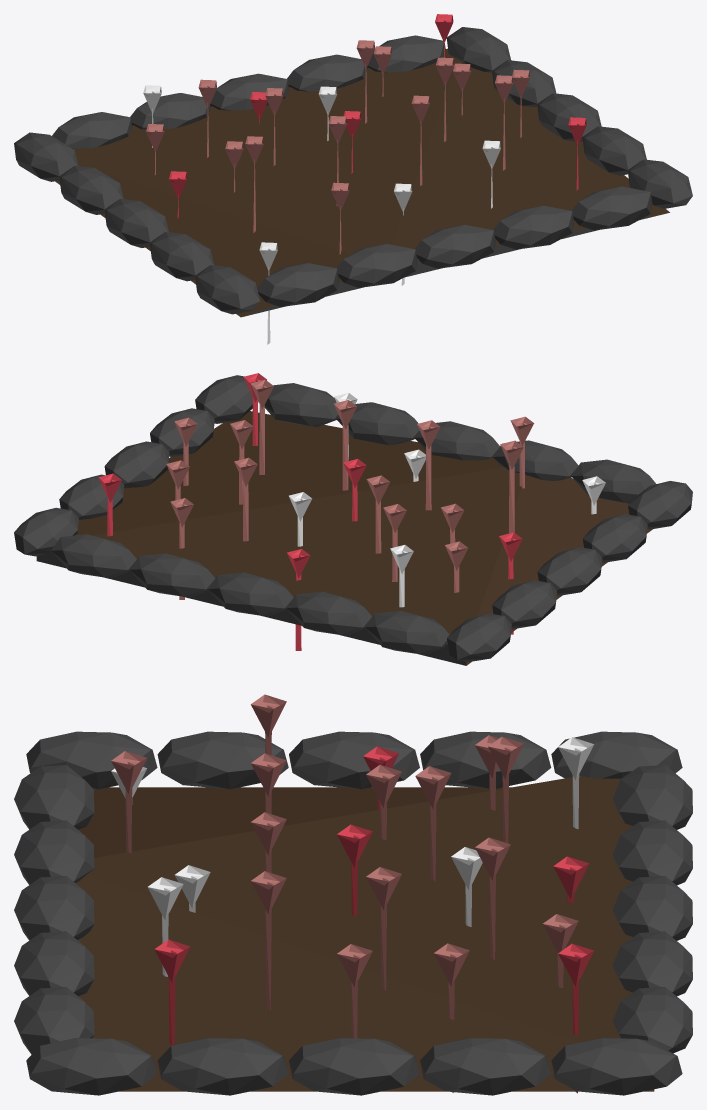
File: garden.fbx
The picture shows the model from 3 angles, top to bottom: view 1: azimuth 30°, elevation 25°; view 2: azimuth 150°, elevation 25°; view 3: azimuth 270°, elevation 25°; orthographic projection. The views are drawn at different scales.
Visible parts, largest first — view 1: garden; view 2: garden; view 3: garden.
Part boxes in pixels (<box>): garden: <box>14,14,692,344</box>; garden: <box>14,373,692,665</box>; garden: <box>14,694,692,1095</box>.
Size of the model in its own units: 1208 by 384 by 1019.
